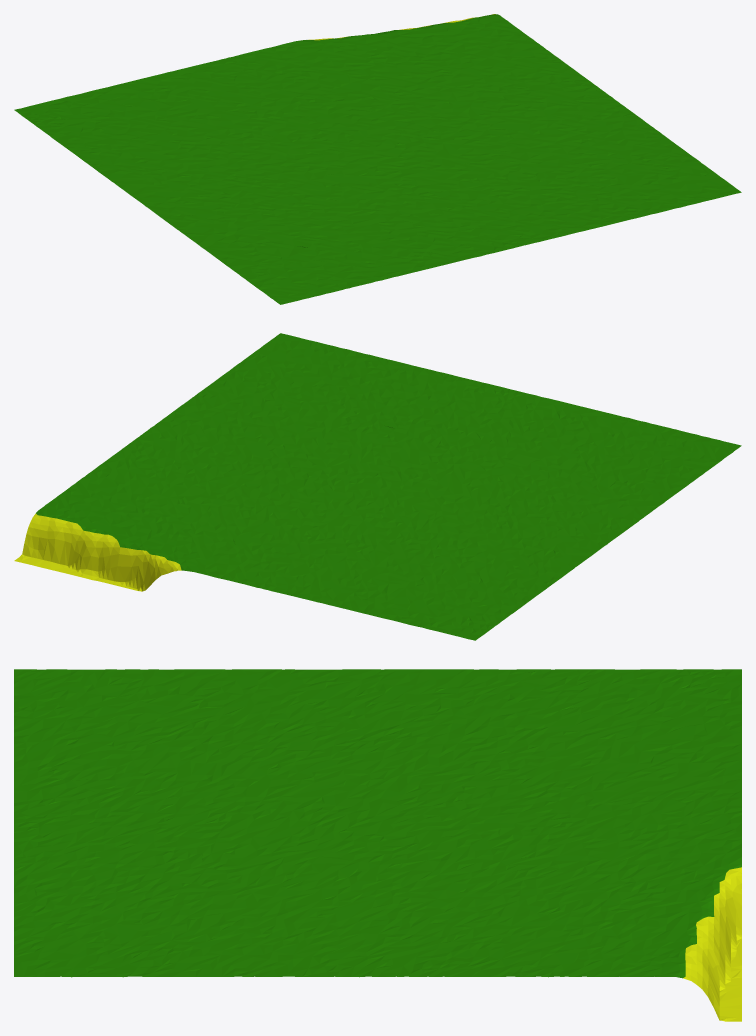
3 renders of one model, top to bottom at view 1: azimuth 30°, elevation 25°; view 2: azimuth 150°, elevation 25°; view 3: azimuth 270°, elevation 25°, orthographic. The views are drawn at different scales.
Visible parts, largest first — view 1: TerrainVeryHigh.014; view 2: TerrainVeryHigh.014; view 3: TerrainVeryHigh.014.
Part boxes in pixels (box(x1,y1,x2,y2)): TerrainVeryHigh.014: box(14, 14, 741, 304); TerrainVeryHigh.014: box(14, 333, 741, 640); TerrainVeryHigh.014: box(14, 669, 741, 1021).
Bounding box in the file's own units: 1250 × 1251 × 86.06.
